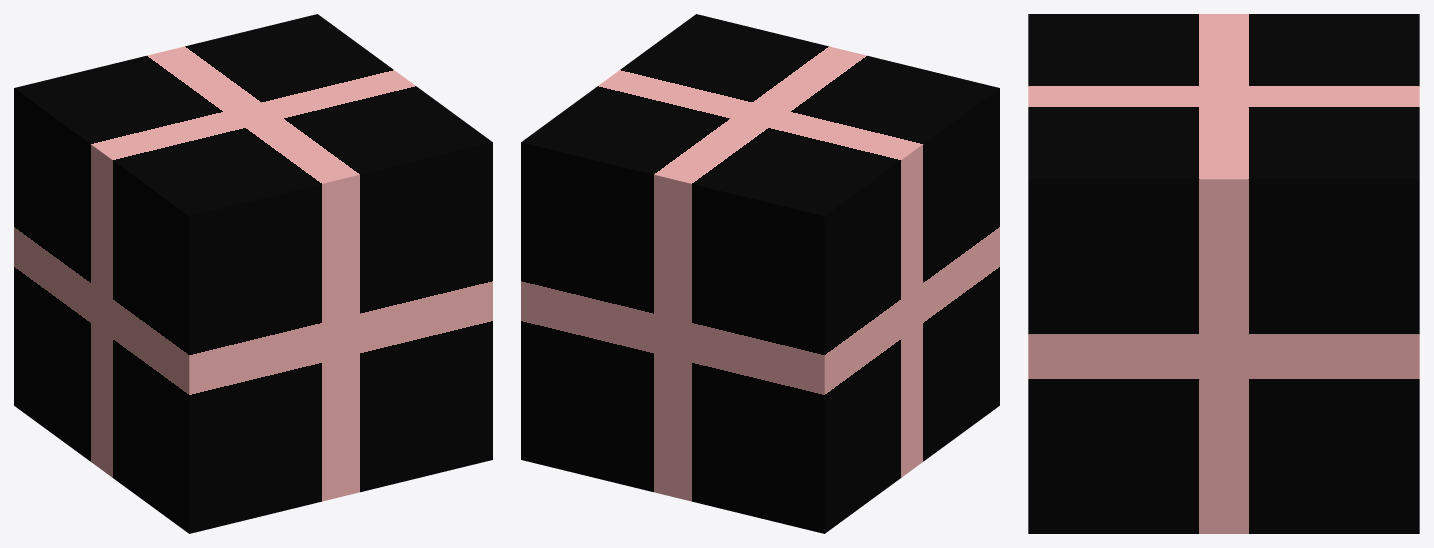
Rendered from bullet_crystal.obj.
The picture shows the model from 3 angles, left to right: view 1: azimuth 30°, elevation 25°; view 2: azimuth 150°, elevation 25°; view 3: azimuth 270°, elevation 25°; orthographic projection. The views are drawn at different scales.
Parts seen in each view (by area): view 1: cube_Mesh_0; view 2: cube_Mesh_0; view 3: cube_Mesh_0.
Boxes of the visible parts, left/top/right/bottom form: cube_Mesh_0: left=14, top=14, right=492, bottom=533; cube_Mesh_0: left=521, top=14, right=999, bottom=533; cube_Mesh_0: left=1028, top=14, right=1419, bottom=533.
Bounding box in the file's own units: 1 × 1 × 1.
1 material, 1 textured.
